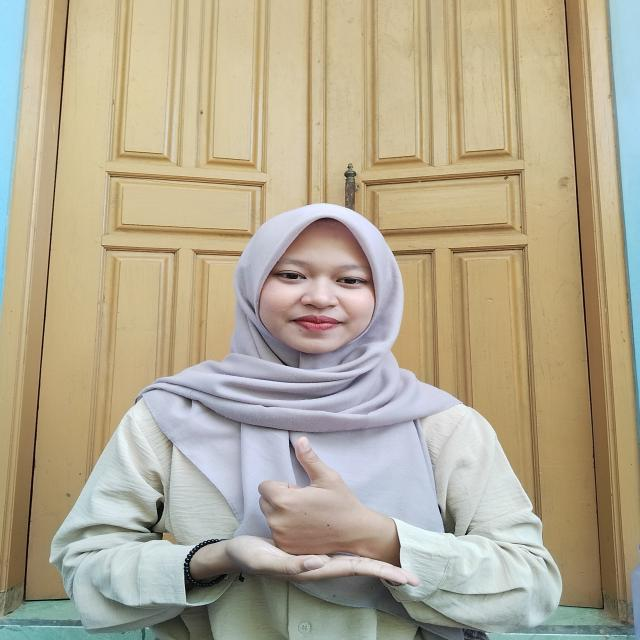cantik: (166, 415, 423, 594)
